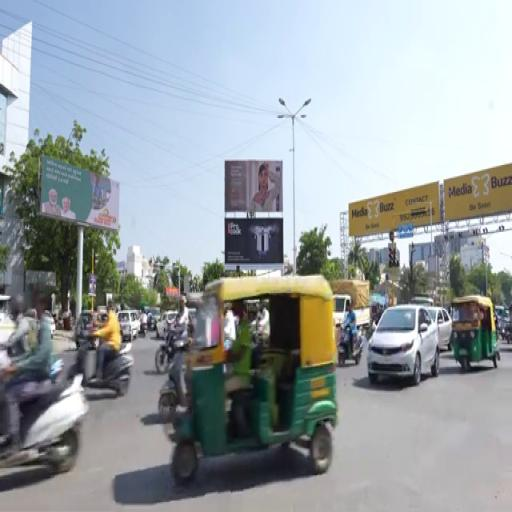Car: (367, 305, 439, 385), (75, 311, 107, 348), (428, 308, 451, 349), (118, 311, 139, 342), (156, 311, 177, 338), (146, 308, 160, 331), (45, 311, 55, 338)
